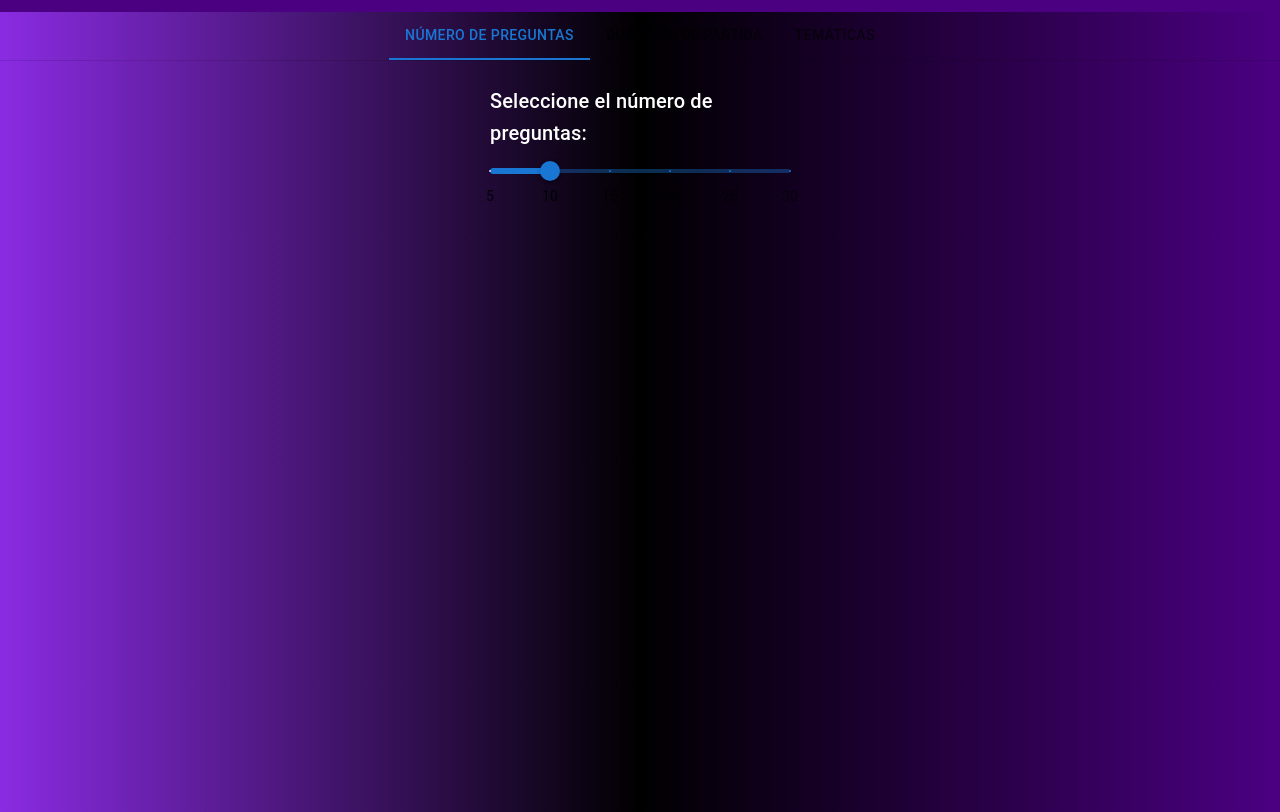
GameSettings › renders game settings correctly
The width and height of the screenshot is (1280, 812).
Expected: the tab "Número de preguntas" is shown, [389,12,590,60]
Expected: the tab "Temáticas" is shown, [779,12,891,60]
// nos movemos a duración de partida
Click the tab "Duración de partida". click: (684, 36)
box: [590,12,779,60]
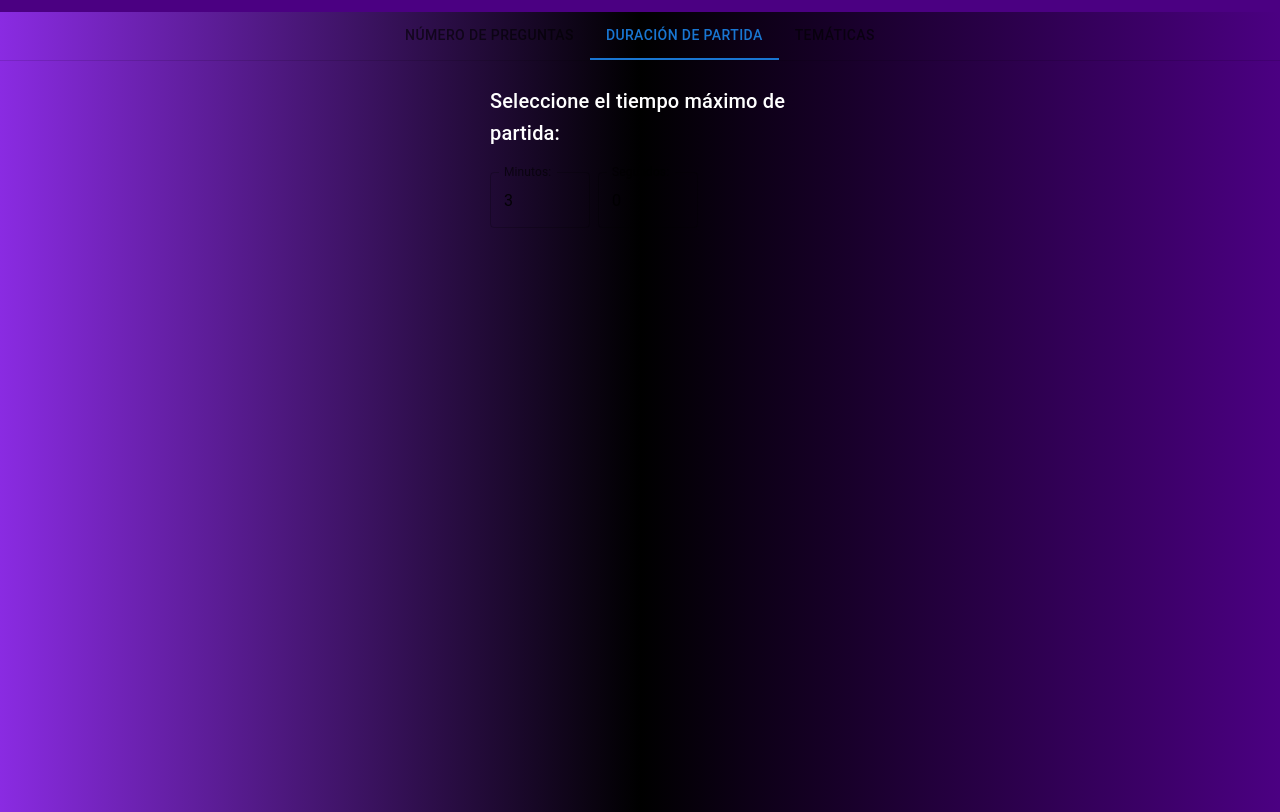
Expected: the number field labelled "Segundos:" holds "0", [598,172,698,228]
Expected: the heading "Seleccione el tiempo máximo de partida:" is shown, [490,85,790,149]
Expected: the number field labelled "Minutos:" holds "3", [490,172,590,228]
// nos movemos a la zona de temáticas
Click the tab "Temáticas". click: (835, 36)
box: [779,12,891,60]
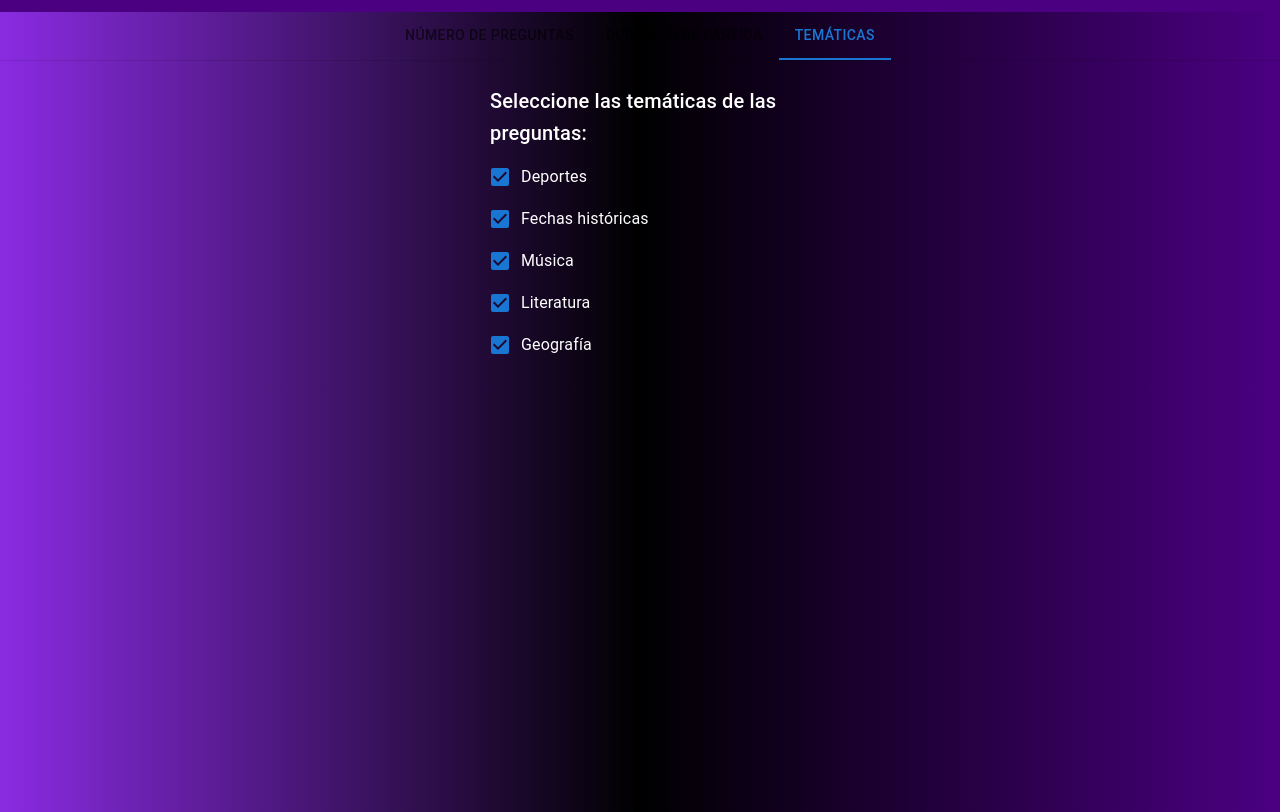
Expected: the heading "Seleccione las temáticas de las preguntas:" is shown, [490,85,790,149]
Expected: the text "Deportes" is shown, [521,165,587,189]
Expected: the text "Fechas históricas" is shown, [521,207,649,231]
